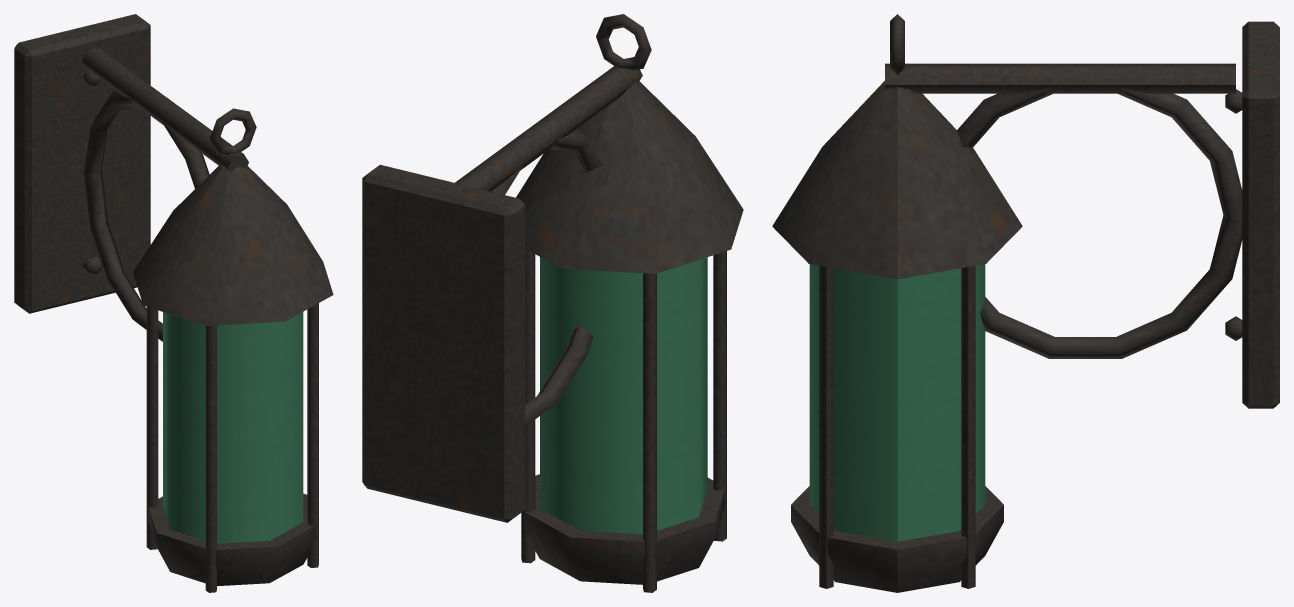
The model's file is wall_lantern.glb.
3 renders of one model, left to right at view 1: azimuth 30°, elevation 25°; view 2: azimuth 150°, elevation 25°; view 3: azimuth 270°, elevation 25°, orthographic. The views are drawn at different scales.
Parts seen in each view (by area): view 1: wall_lantern; view 2: wall_lantern; view 3: wall_lantern.
Part boxes in pixels (left/top/right/bottom): wall_lantern: left=14, top=14, right=333, bottom=592; wall_lantern: left=362, top=14, right=743, bottom=592; wall_lantern: left=772, top=14, right=1279, bottom=592.
Bounding box in the file's own units: 0.2 × 0.476 × 0.405.
1 material, 1 textured.
